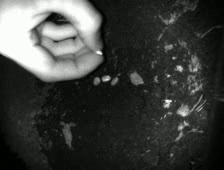corn: (108, 75, 120, 88), (91, 46, 103, 58), (99, 72, 112, 83), (91, 75, 102, 86)
